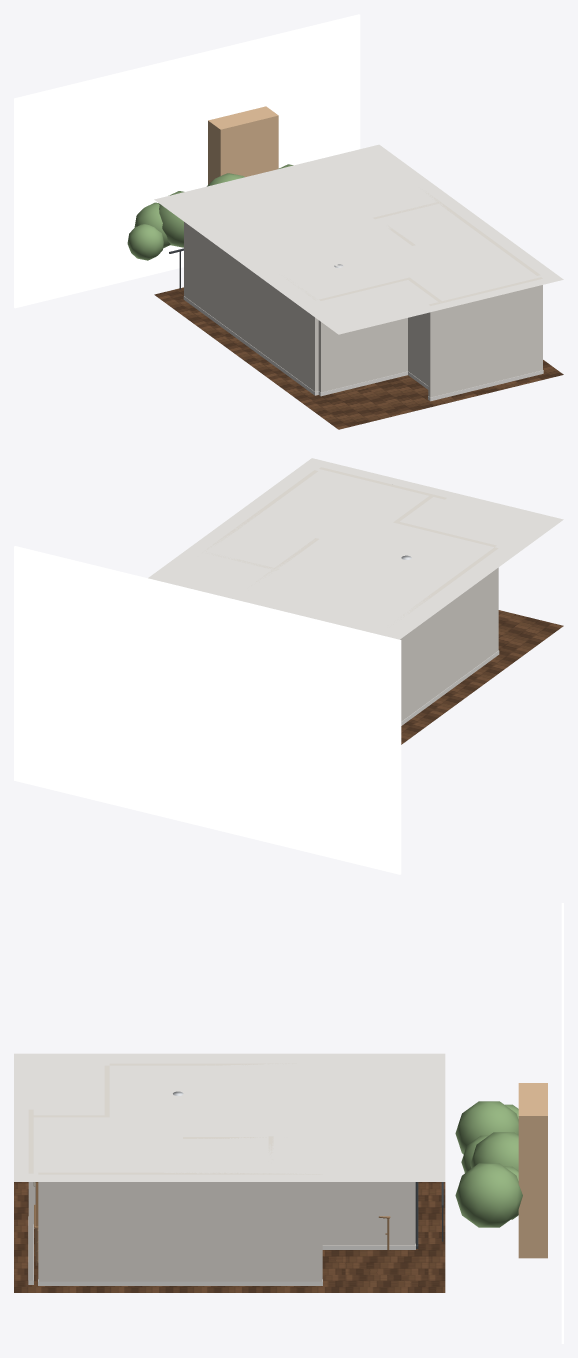
The model's file is living_comedor.glb.
3 renders of one model, top to bottom at view 1: azimuth 30°, elevation 25°; view 2: azimuth 150°, elevation 25°; view 3: azimuth 270°, elevation 25°, orthographic. The views are drawn at different scales.
Visible parts, largest first — view 1: Exterior_Backdrop, Ceiling, Wall_Hallway_Back, Wall_Left, Floor_Laminate, Wall_DiningBack, Exterior_Apartment, Wall_Hallway_Left, Exterior_Tree_0, Exterior_Tree_2, Exterior_Tree_1, Wall_Left_Base (+1 smaller); view 2: Exterior_Backdrop, Ceiling, Wall_Left, Floor_Laminate; view 3: Ceiling, Wall_Kitchen_Back, Floor_Laminate, Wall_Right_Living, Exterior_Apartment, Exterior_Tree_8, Exterior_Tree_2, Wall_Kitchen_Back_Base, Exterior_Tree_5, Exterior_Backdrop, Wall_Hallway_Back.
Part boxes in pixels (x1=…): Exterior_Backdrop: x1=14, y1=14, x2=360, y2=308; Ceiling: x1=154, y1=144, x2=563, y2=334; Wall_Hallway_Back: x1=428, y1=277, x2=542, y2=397; Wall_Left: x1=184, y1=222, x2=318, y2=391; Floor_Laminate: x1=154, y1=287, x2=563, y2=429; Wall_DiningBack: x1=318, y1=277, x2=409, y2=392; Exterior_Apartment: x1=208, y1=106, x2=278, y2=184; Wall_Hallway_Left: x1=406, y1=278, x2=442, y2=385; Exterior_Tree_0: x1=127, y1=224, x2=163, y2=260; Exterior_Tree_2: x1=159, y1=191, x2=183, y2=247; Exterior_Tree_1: x1=134, y1=202, x2=170, y2=248; Wall_Left_Base: x1=183, y1=296, x2=318, y2=395; Exterior_Backdrop: x1=14, y1=546, x2=401, y2=874; Ceiling: x1=148, y1=458, x2=563, y2=639; Wall_Left: x1=393, y1=547, x2=498, y2=721; Floor_Laminate: x1=401, y1=610, x2=563, y2=744; Ceiling: x1=14, y1=1053, x2=445, y2=1181; Wall_Kitchen_Back: x1=38, y1=1172, x2=322, y2=1281; Floor_Laminate: x1=14, y1=1182, x2=445, y2=1292; Wall_Right_Living: x1=257, y1=1137, x2=415, y2=1245; Exterior_Apartment: x1=518, y1=1083, x2=547, y2=1258; Exterior_Tree_8: x1=455, y1=1163, x2=522, y2=1227; Exterior_Tree_2: x1=455, y1=1101, x2=518, y2=1154; Wall_Kitchen_Back_Base: x1=38, y1=1279, x2=322, y2=1285; Exterior_Tree_5: x1=470, y1=1132, x2=518, y2=1170; Exterior_Backdrop: x1=561, y1=903, x2=563, y2=1343; Wall_Hallway_Back: x1=28, y1=1109, x2=33, y2=1280.
Bounding box in the file's own units: 9.5 × 5.5 × 11.23.
60 materials, 15 textured.
